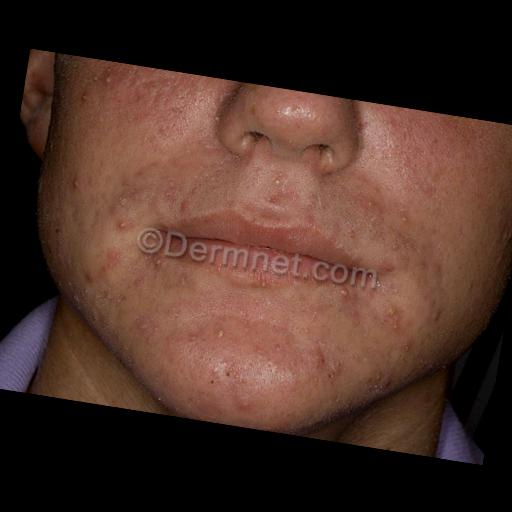Skin_Lesion: (306, 339, 346, 386), (233, 391, 267, 425), (374, 301, 406, 332), (412, 170, 440, 198), (130, 310, 156, 340), (74, 264, 104, 290), (332, 282, 358, 310), (265, 172, 292, 198), (174, 267, 199, 294), (92, 64, 118, 88), (250, 272, 274, 298), (66, 168, 86, 192), (206, 324, 230, 344), (131, 64, 164, 78), (428, 304, 448, 324), (359, 191, 381, 209), (115, 212, 134, 232), (144, 256, 165, 272), (108, 247, 126, 265), (178, 195, 192, 214), (270, 338, 286, 354), (220, 374, 238, 388), (381, 260, 395, 272)
